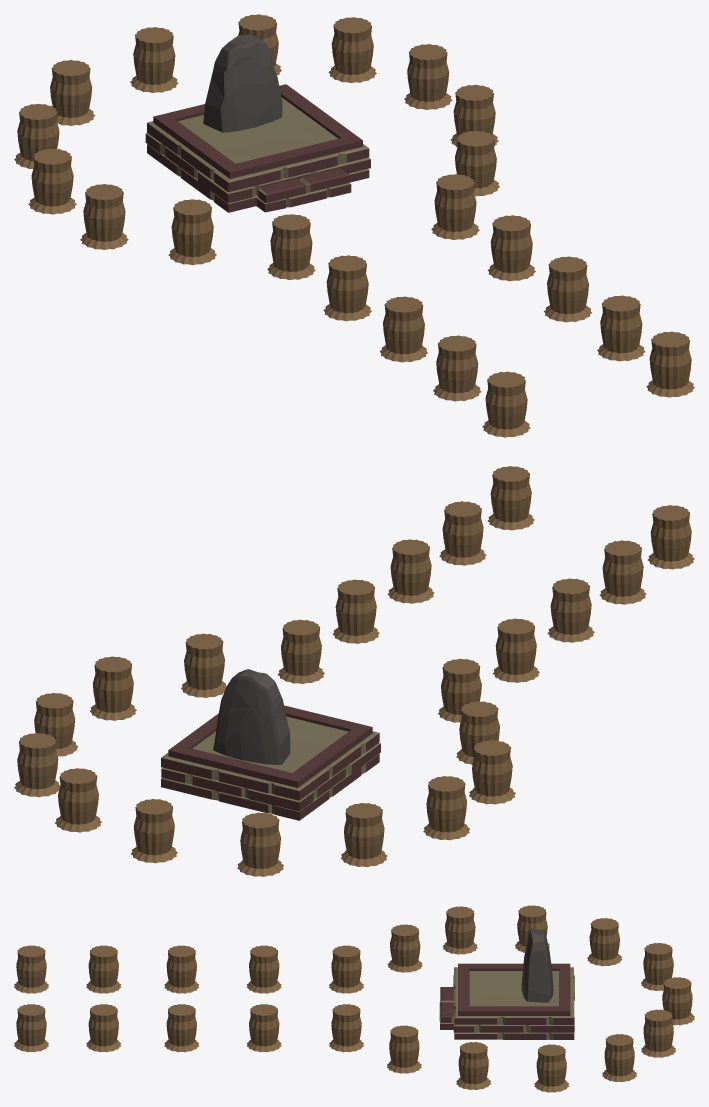
The model's file is stone_altar.fbx.
3 renders of one model, top to bottom at view 1: azimuth 30°, elevation 25°; view 2: azimuth 150°, elevation 25°; view 3: azimuth 270°, elevation 25°, orthographic. The views are drawn at different scales.
Visible parts, largest first — view 1: stone_altar; view 2: stone_altar; view 3: stone_altar.
Boxes of the visible parts, x1,y1,x2,y2 form: stone_altar: (14, 14, 694, 437); stone_altar: (14, 466, 694, 876); stone_altar: (14, 905, 694, 1092).
Size of the model in its own units: 7.73 by 1.99 by 14.46.
